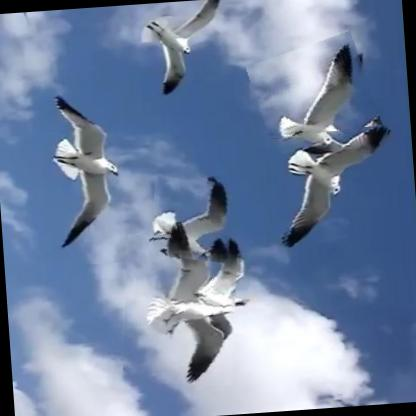bird: (115, 231, 242, 391), (250, 36, 382, 171), (42, 78, 127, 267), (272, 126, 398, 247), (131, 0, 226, 102), (145, 173, 237, 265), (190, 238, 254, 336)
